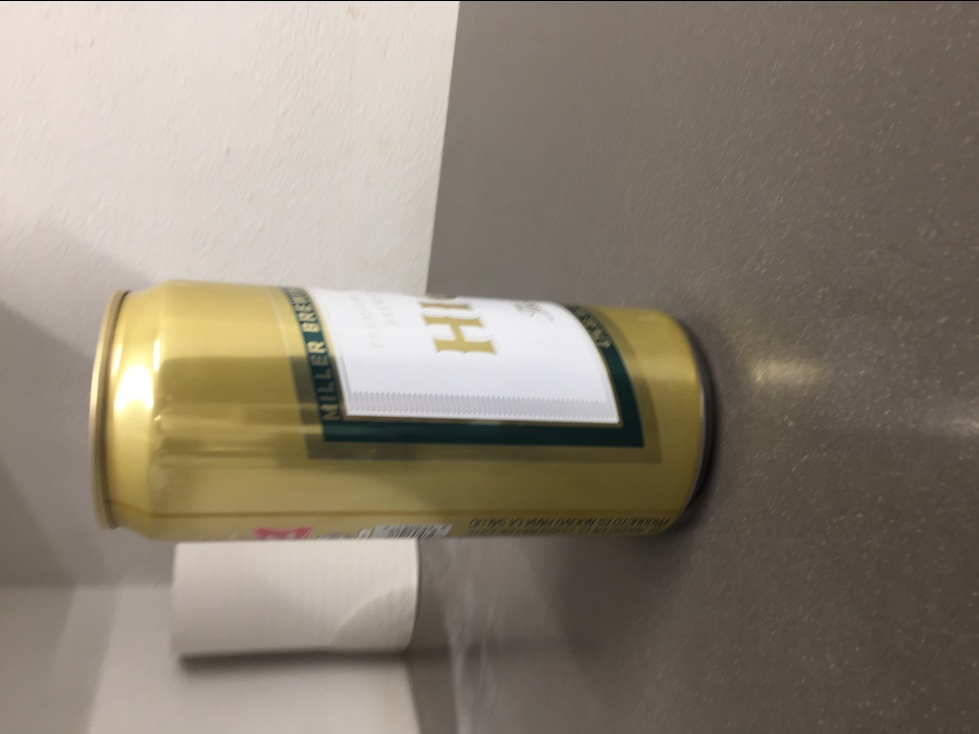miller: (86, 275, 713, 541)
